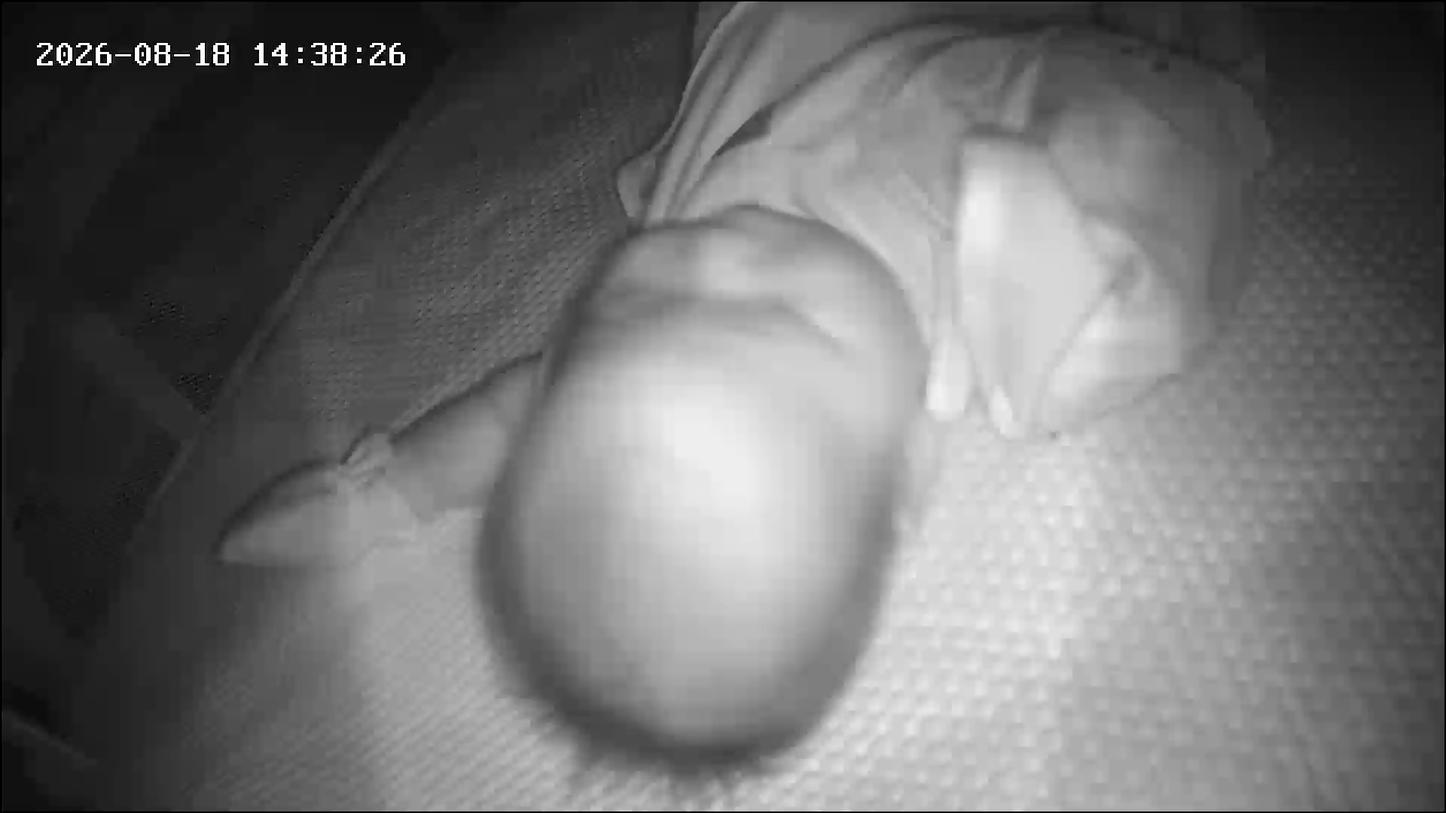baby: (39, 0, 967, 801), (390, 2, 1308, 800)
baby_face: (479, 207, 948, 784)
